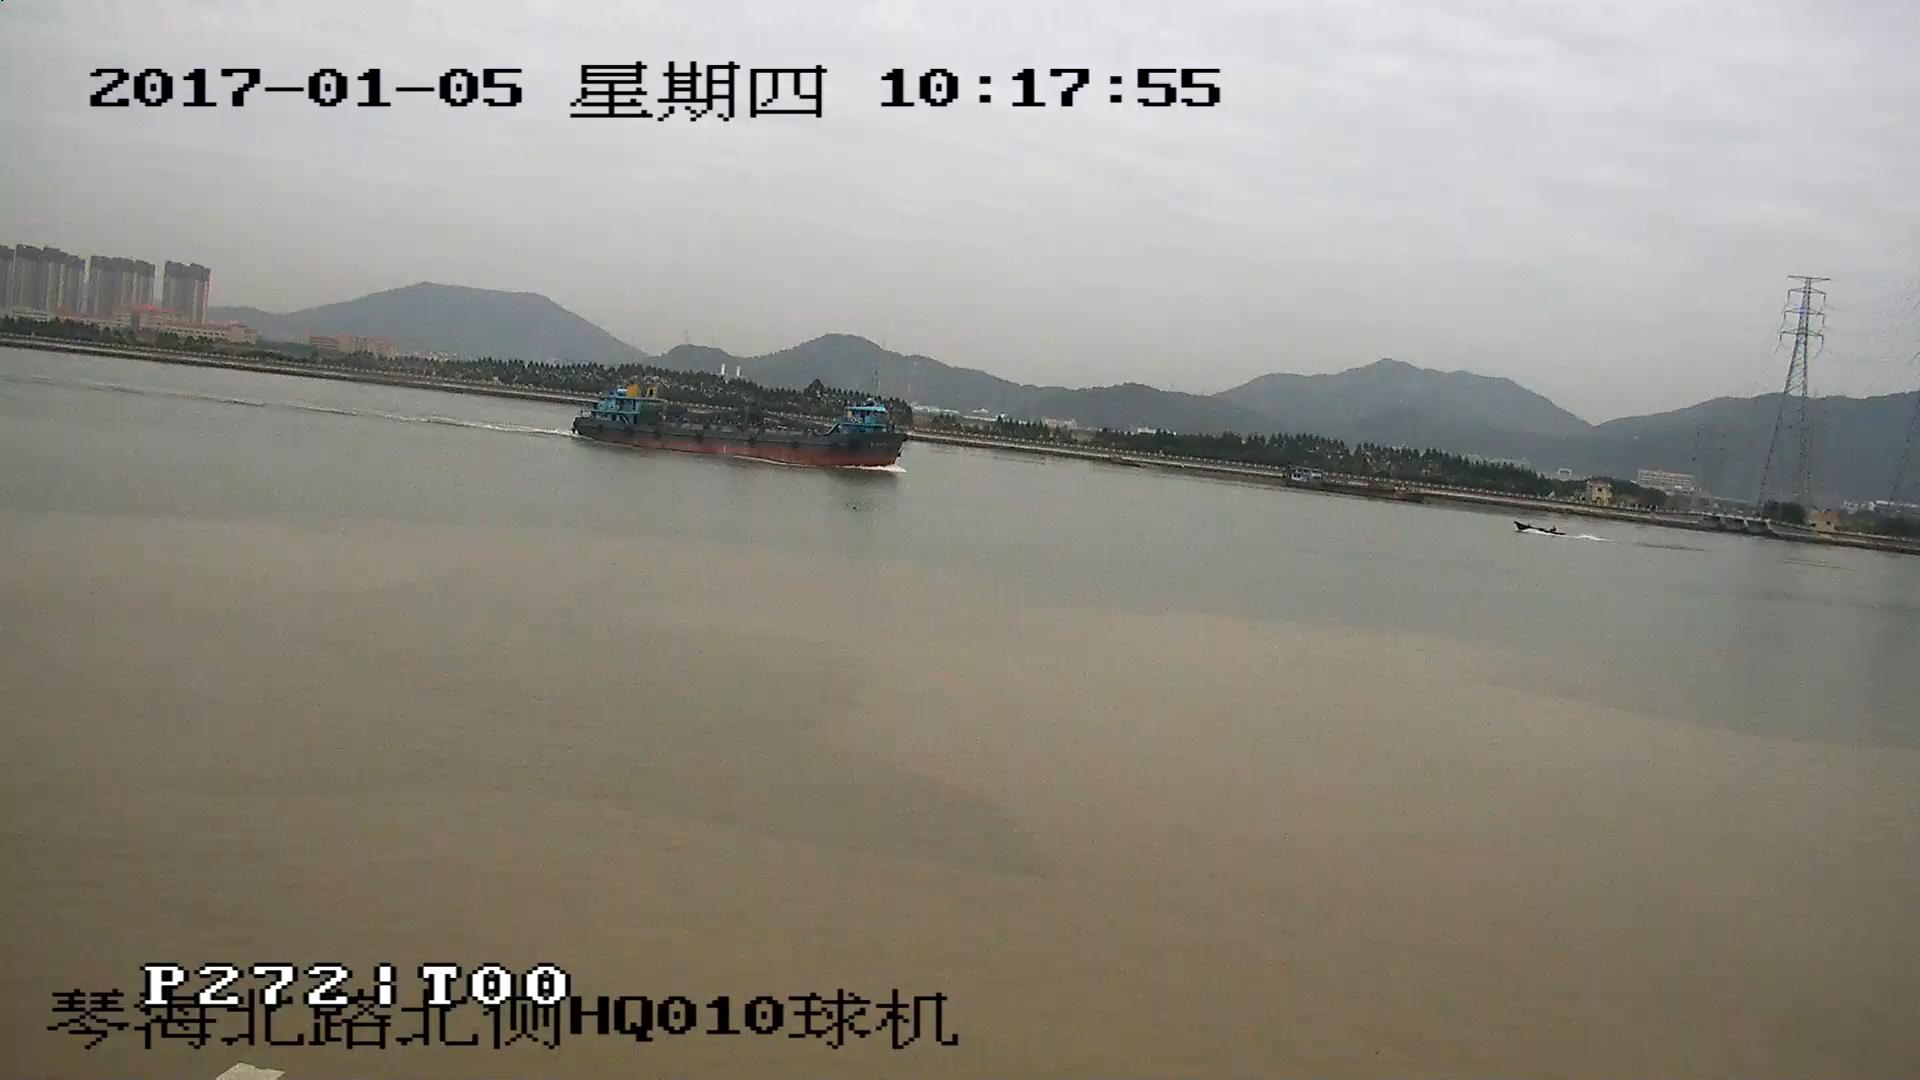bulk cargo carrier: (575, 372, 899, 463)
